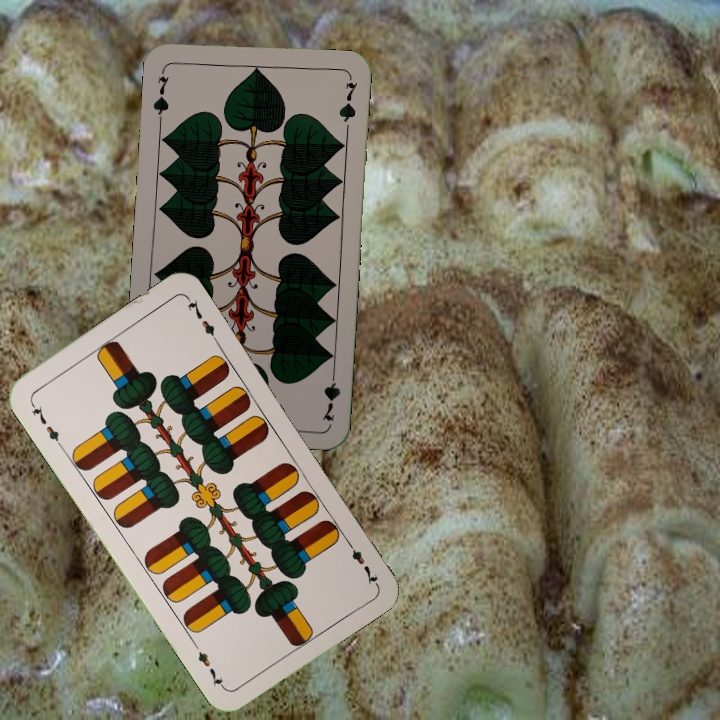E7: (341, 535, 381, 588), (26, 398, 65, 450)
G7: (318, 365, 343, 424), (149, 64, 172, 123)
